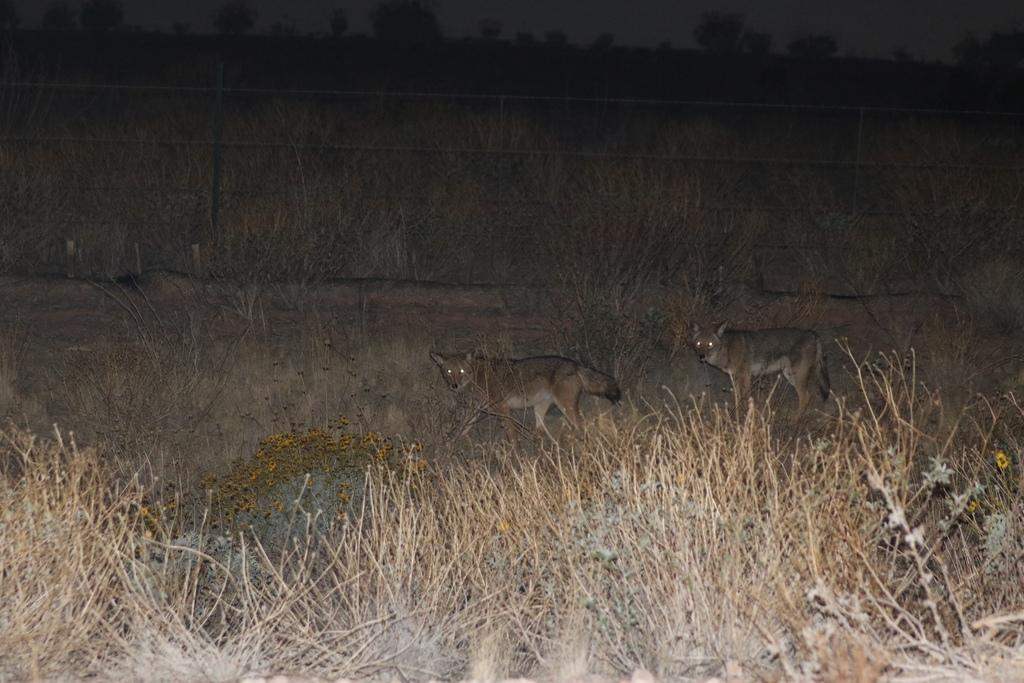Coyote: (426, 342, 626, 441), (681, 317, 836, 430)
